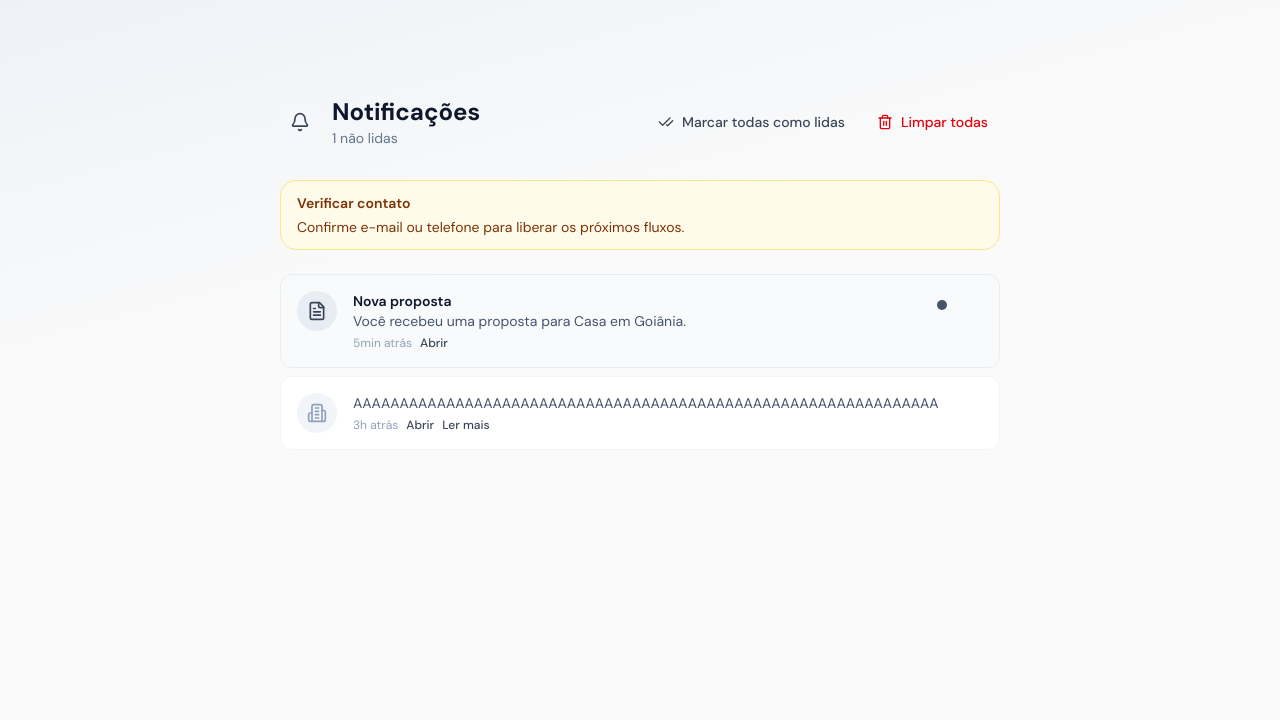
Test: Notifications Page - Integration › opens long message dialog when "Ler mais" is clicked
The width and height of the screenshot is (1280, 720).
Click the button "Ler mais": (466, 425) [442,417,490,433]
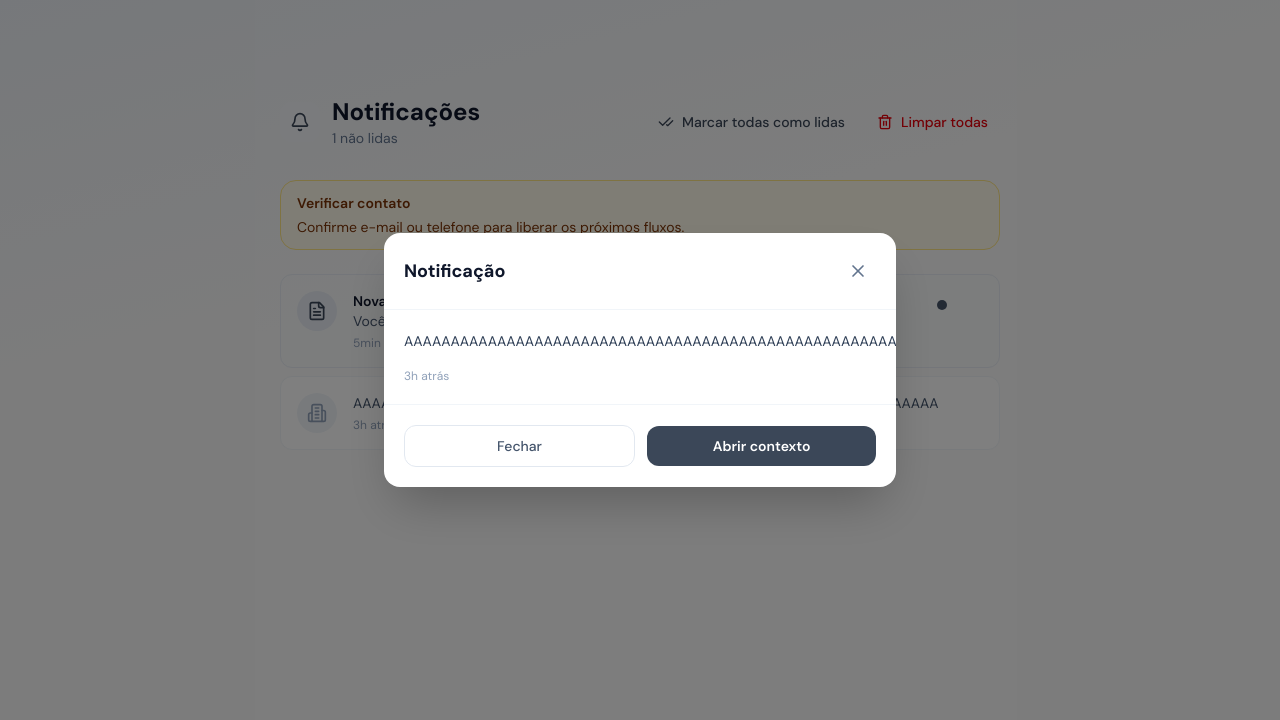
Now the heading "Notificação" is shown, box [404,257,505,285]
Now the button "Fechar" is shown, box [404,425,635,467]
